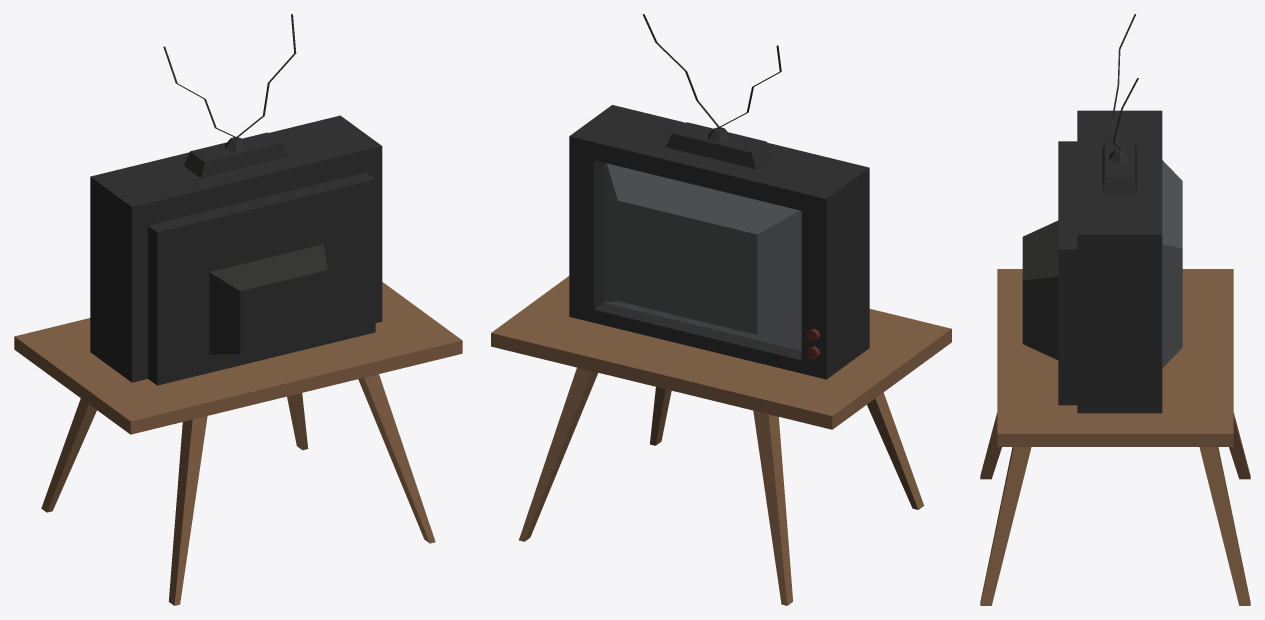
The picture shows the model from 3 angles, left to right: view 1: azimuth 30°, elevation 25°; view 2: azimuth 150°, elevation 25°; view 3: azimuth 270°, elevation 25°; orthographic projection. The views are drawn at different scales.
Visible parts, largest first — view 1: TV, stolik; view 2: TV, stolik; view 3: TV, stolik.
Boxes of the visible parts, <box> form: TV: <box>90,14,382,385</box>; stolik: <box>14,282,462,605</box>; TV: <box>569,14,869,379</box>; stolik: <box>491,276,951,605</box>; TV: <box>1022,14,1182,413</box>; stolik: <box>980,269,1250,605</box>.
Bounding box in the file's own units: 330 × 462 × 229.
